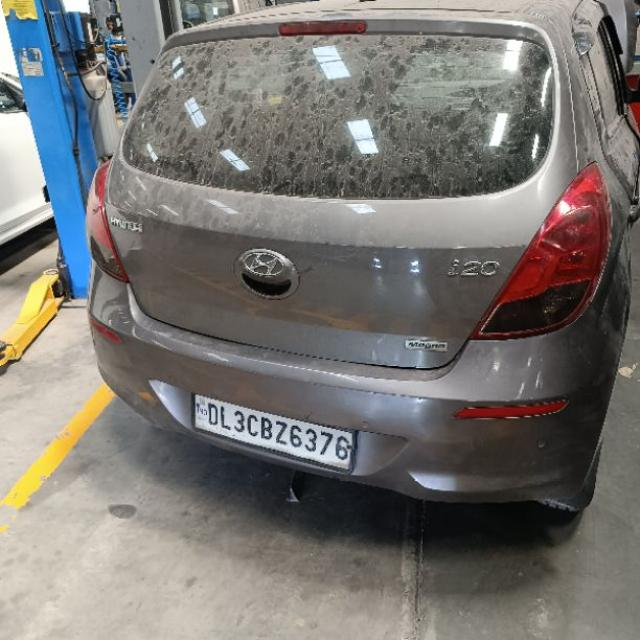license_plate: (190, 392, 358, 476)
